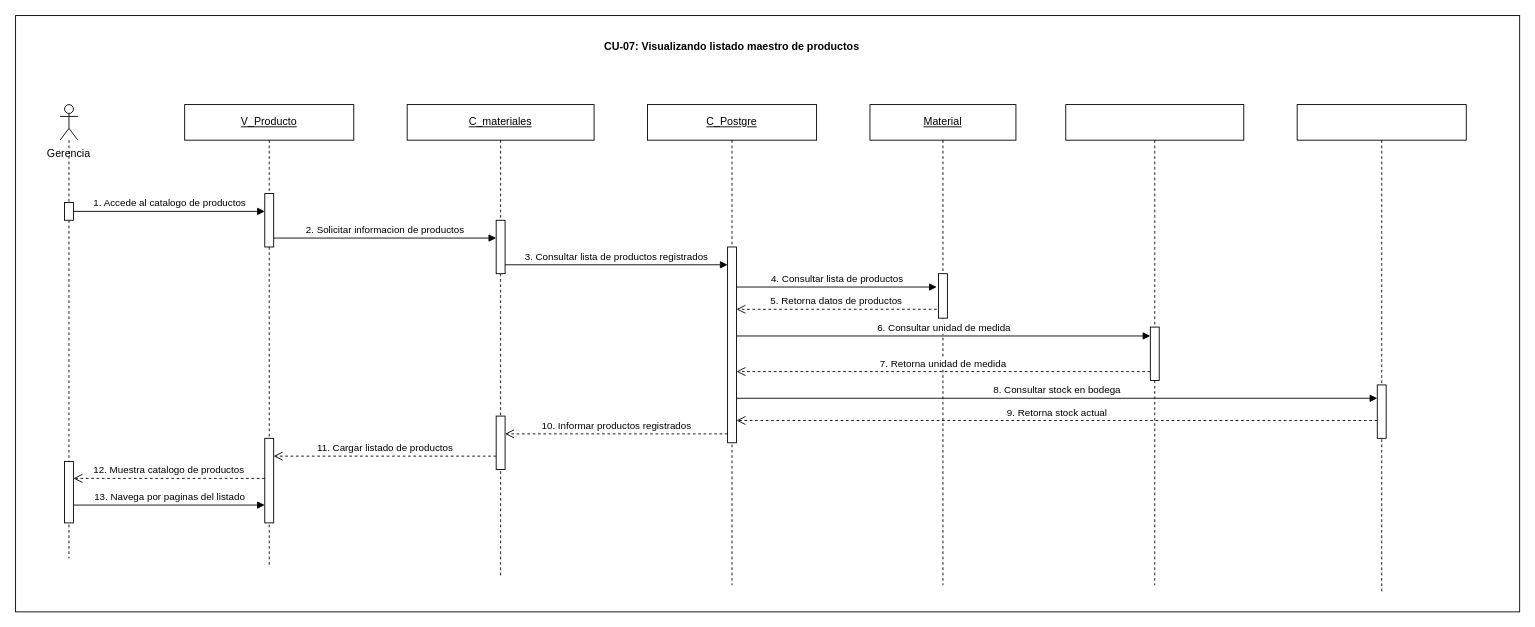
Image size: 1535x627. Some labels were removed from this diagram. The shapes that lost their labels are listed below. From the top down, each one's box as (x1, y1, x2, y2) in pixels, then its label:
(1065, 104, 1244, 585): Material_unidad_medida
(1296, 104, 1466, 594): Inventario_bodega
